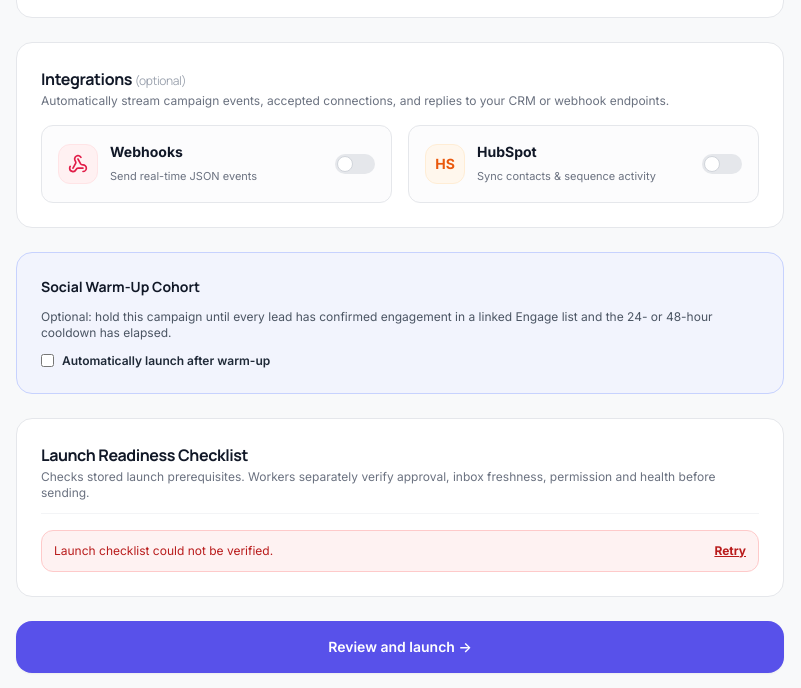
Test case: First campaign wizard › arms conditional launch only after an explicit warm-up opt-in
This screenshot has width=801, height=688.
Later steps or results of the test are not shown.
(page scrolled)
What coordinates should you click on to do the following:
click the checkbox named "Automatically launch after warm-up"
I would click on:
 (48, 360)
Its box is [41, 354, 54, 367].
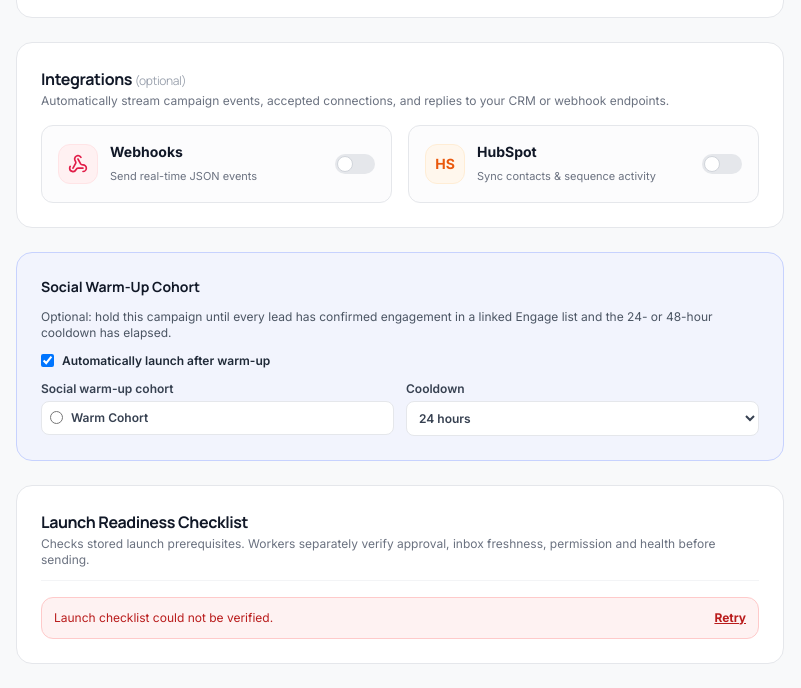
Result: the text "Warm Cohort" is shown at [41, 400, 394, 434]
Result: the radio button named "engage-cohort" is shown at [50, 411, 63, 424]
